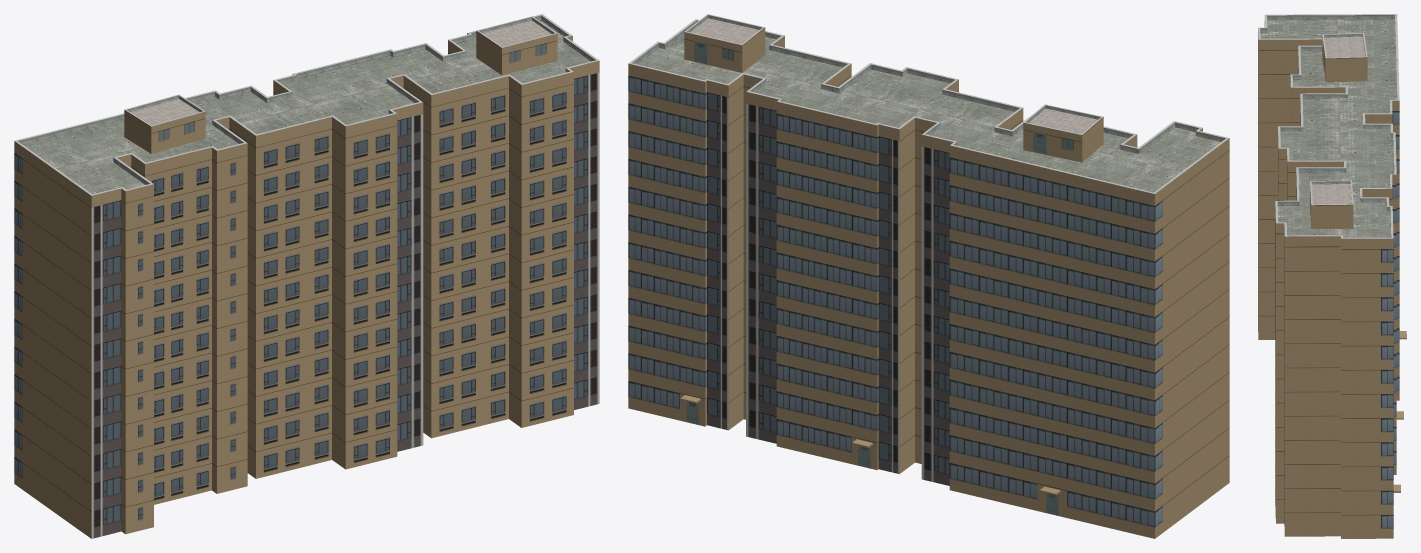
The picture shows the model from 3 angles, left to right: view 1: azimuth 30°, elevation 25°; view 2: azimuth 150°, elevation 25°; view 3: azimuth 270°, elevation 25°; orthographic projection. The views are drawn at different scales.
Parts seen in each view (by area): view 1: jz3; view 2: jz3; view 3: jz3.
Part boxes in pixels (x1=…): jz3: x1=14, y1=14, x2=599, y2=538; jz3: x1=628, y1=14, x2=1229, y2=538; jz3: x1=1258, y1=14, x2=1406, y2=538.
Size of the model in its own units: 6987 by 4639 by 1955.
Materials: 13 (13 with a texture image).
